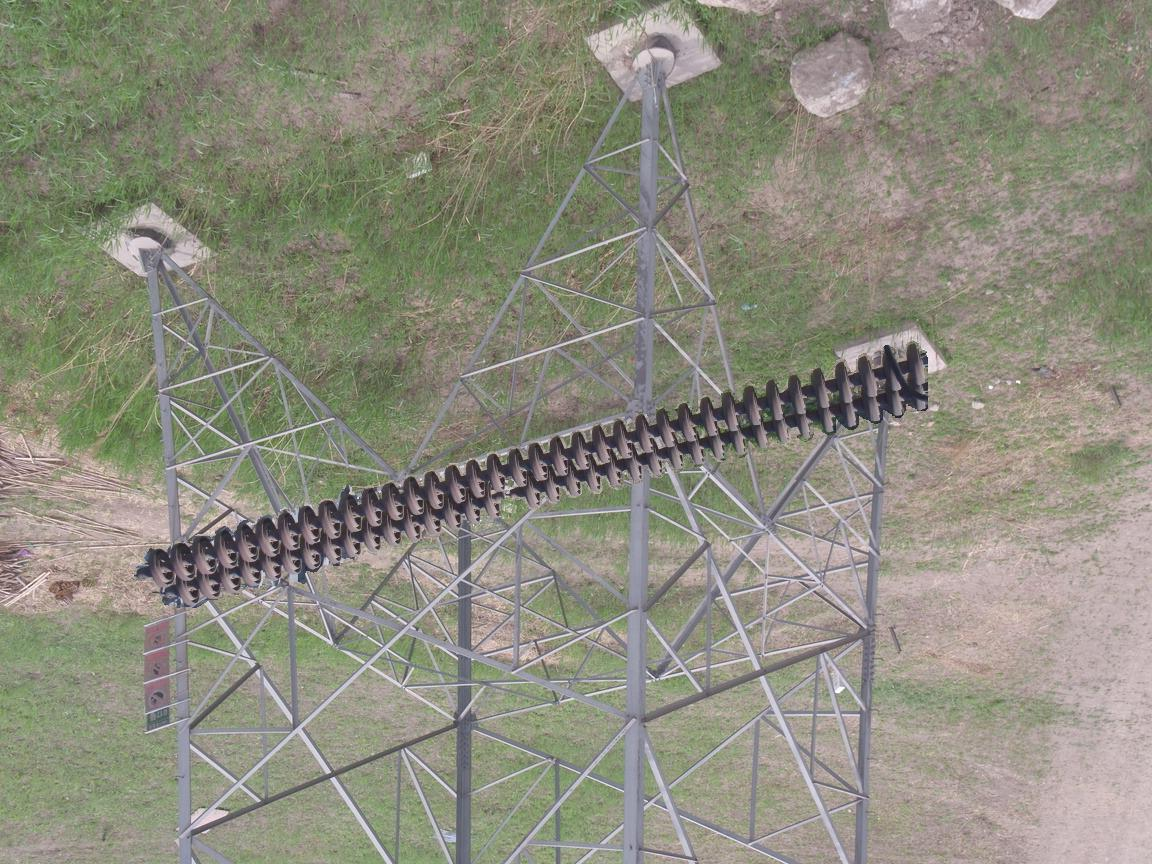insulator: (137, 336, 935, 616)
insulator_stringdrop: (480, 477, 544, 522)
